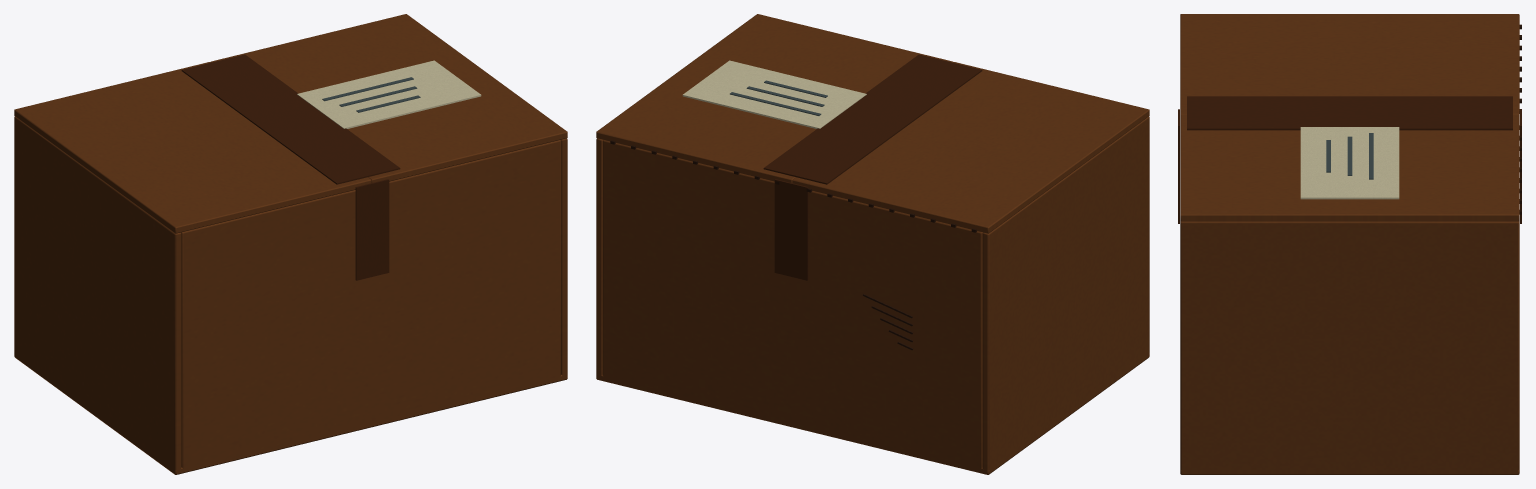
File: DeliveryBoxSmall.gltf
The picture shows the model from 3 angles, left to right: view 1: azimuth 30°, elevation 25°; view 2: azimuth 150°, elevation 25°; view 3: azimuth 270°, elevation 25°; orthographic projection. The views are drawn at different scales.
Visible parts, largest first — view 1: DeliveryBoxSmall__Body, DeliveryBoxSmall__FlapL, DeliveryBoxSmall__FlapR; view 2: DeliveryBoxSmall__Body, DeliveryBoxSmall__FlapL, DeliveryBoxSmall__FlapR; view 3: DeliveryBoxSmall__Body, DeliveryBoxSmall__FlapR, DeliveryBoxSmall__FlapL.
Boxes of the visible parts, box(x1,y1,x2,y2) form: DeliveryBoxSmall__Body: box(14, 116, 567, 474); DeliveryBoxSmall__FlapL: box(14, 62, 371, 233); DeliveryBoxSmall__FlapR: box(211, 14, 567, 182); DeliveryBoxSmall__Body: box(596, 116, 1149, 474); DeliveryBoxSmall__FlapL: box(792, 62, 1149, 233); DeliveryBoxSmall__FlapR: box(596, 14, 952, 184); DeliveryBoxSmall__Body: box(1178, 109, 1521, 474); DeliveryBoxSmall__FlapR: box(1180, 112, 1521, 221); DeliveryBoxSmall__FlapL: box(1180, 14, 1521, 114).
Bounding box in the file's own units: 0.504 × 0.308 × 0.364.
1 material, 1 textured.
